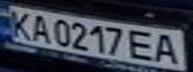0: (48, 16, 72, 47)
1: (87, 22, 106, 54)
2: (66, 19, 90, 52)
7: (103, 25, 130, 56)
A: (151, 32, 184, 65), (27, 12, 54, 44)
E: (127, 27, 160, 62)
K: (3, 7, 36, 39)
